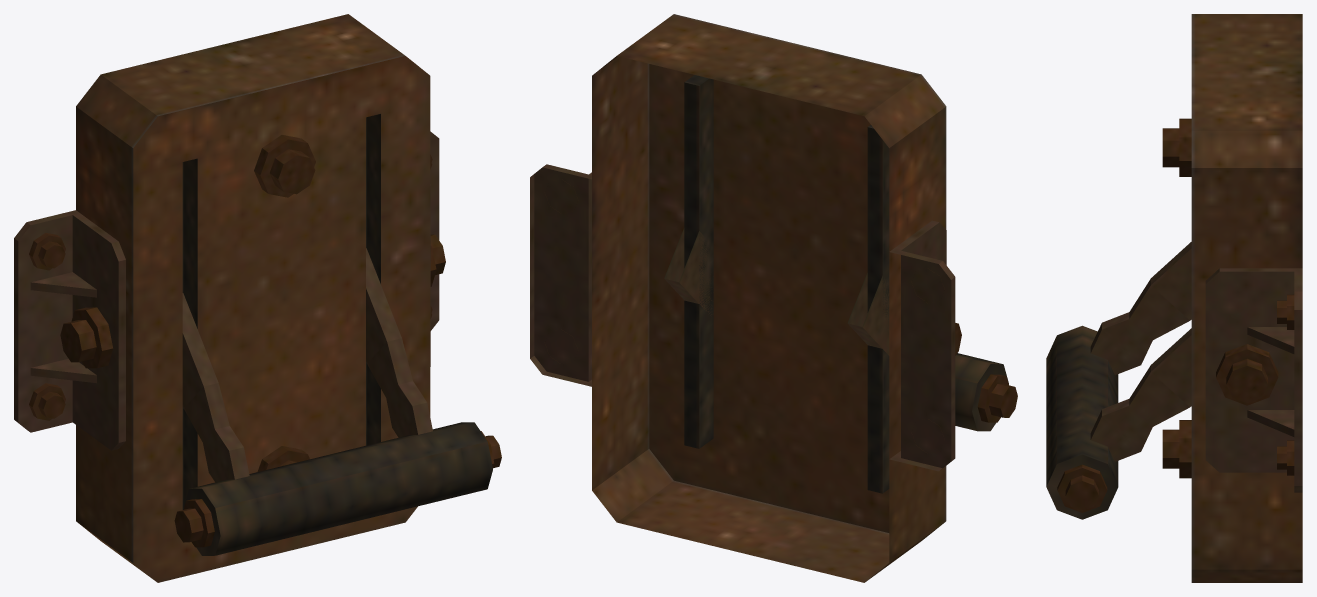
File: lever_etx_2_1.obj
3 renders of one model, left to right at view 1: azimuth 30°, elevation 25°; view 2: azimuth 150°, elevation 25°; view 3: azimuth 270°, elevation 25°, orthographic. The views are drawn at different scales.
Visible parts, largest first — view 1: lever_etx_2_1, lever_etx_2_1_child; view 2: lever_etx_2_1, lever_etx_2_1_child; view 3: lever_etx_2_1, lever_etx_2_1_child.
Part boxes in pixels (x1=…): lever_etx_2_1: x1=14, y1=14, x2=445, y2=582; lever_etx_2_1_child: x1=174, y1=248, x2=501, y2=555; lever_etx_2_1: x1=530, y1=14, x2=961, y2=582; lever_etx_2_1_child: x1=664, y1=228, x2=1017, y2=431; lever_etx_2_1: x1=1162, y1=14, x2=1302, y2=582; lever_etx_2_1_child: x1=1046, y1=242, x2=1191, y2=519.
Size of the model in its own units: 0.306 by 0.324 by 0.1665.
